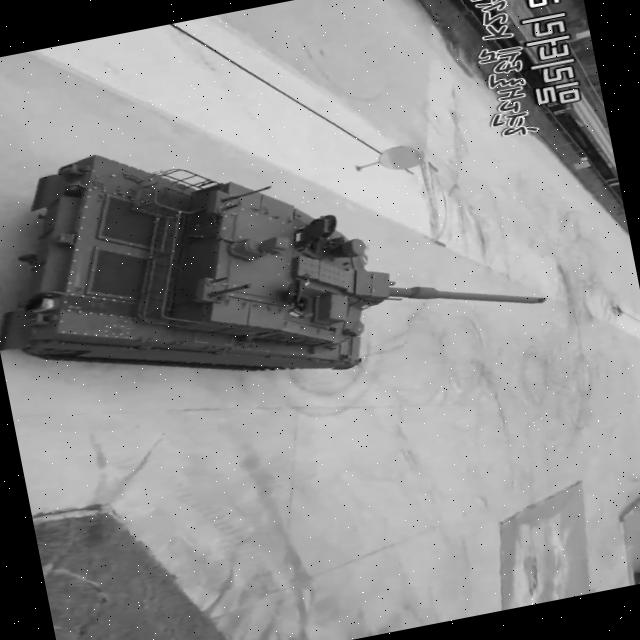korea tank: (0, 75, 554, 432)
